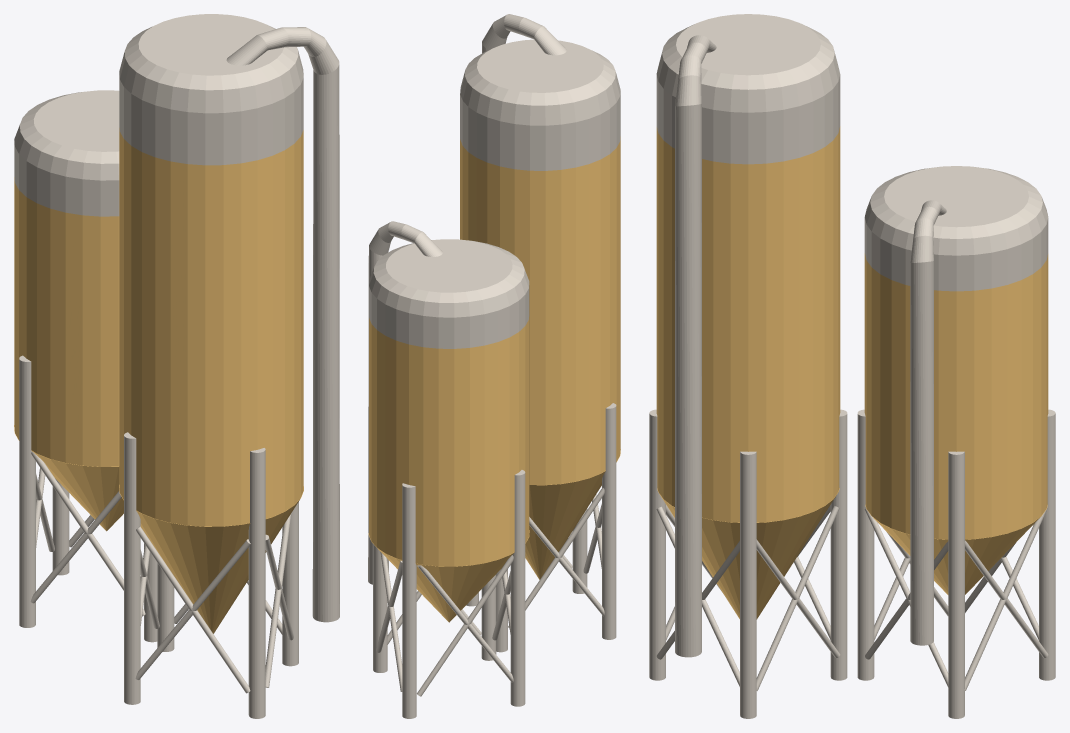
The model's file is silo's.fbx.
The picture shows the model from 3 angles, left to right: view 1: azimuth 30°, elevation 25°; view 2: azimuth 150°, elevation 25°; view 3: azimuth 270°, elevation 25°; orthographic projection. The views are drawn at different scales.
Parts seen in each view (by area): view 1: Cylinder.013, Cylinder, Cylinder.014, Cylinder.012, Cylinder.011, Cylinder.001, Cylinder.002, Cylinder.010, Cylinder.007, Cylinder.009, Cylinder.004, Cylinder.008 (+1 smaller); view 2: Cylinder.013, Cylinder, Cylinder.001, Cylinder.002, Cylinder.012, Cylinder.015, Cylinder.014, Cylinder.011, Cylinder.005, Cylinder.004, Cylinder.006, Cylinder.003 (+2 smaller); view 3: Cylinder.013, Cylinder, Cylinder.014, Cylinder.015, Cylinder.011, Cylinder.002, Cylinder.001, Cylinder.012, Cylinder.003, Cylinder.010, Cylinder.005, Cylinder.008 (+4 smaller).
Part boxes in pixels (bbox=[...]): Cylinder.013: bbox=[119, 14, 303, 633]; Cylinder: bbox=[14, 90, 123, 531]; Cylinder.014: bbox=[226, 27, 339, 622]; Cylinder.012: bbox=[124, 432, 298, 704]; Cylinder.011: bbox=[157, 448, 265, 718]; Cylinder.001: bbox=[19, 355, 35, 627]; Cylinder.002: bbox=[52, 478, 157, 642]; Cylinder.010: bbox=[136, 526, 282, 693]; Cylinder.007: bbox=[140, 513, 291, 687]; Cylinder.009: bbox=[135, 539, 250, 679]; Cylinder.004: bbox=[30, 491, 121, 603]; Cylinder.008: bbox=[140, 534, 293, 640]; Cylinder.013: bbox=[460, 39, 620, 579]; Cylinder: bbox=[368, 239, 529, 622]; Cylinder.001: bbox=[373, 470, 525, 706]; Cylinder.002: bbox=[402, 483, 496, 718]; Cylinder.012: bbox=[466, 403, 616, 639]; Cylinder.015: bbox=[368, 221, 442, 584]; Cylinder.014: bbox=[482, 14, 566, 55]; Cylinder.011: bbox=[496, 508, 587, 652]; Cylinder.005: bbox=[387, 555, 513, 696]; Cylinder.004: bbox=[380, 552, 510, 691]; Cylinder.006: bbox=[417, 565, 513, 682]; Cylinder.003: bbox=[376, 560, 510, 652]; Cylinder.013: bbox=[656, 14, 840, 619]; Cylinder: bbox=[864, 166, 1048, 594]; Cylinder.014: bbox=[675, 35, 716, 657]; Cylinder.015: bbox=[910, 200, 946, 645]; Cylinder.011: bbox=[649, 409, 847, 680]; Cylinder.002: bbox=[857, 409, 1055, 680]; Cylinder.001: bbox=[948, 451, 964, 718]; Cylinder.012: bbox=[740, 451, 756, 718]; Cylinder.003: bbox=[874, 508, 1047, 690]; Cylinder.010: bbox=[666, 505, 839, 690]; Cylinder.005: bbox=[864, 508, 1038, 687]; Cylinder.008: bbox=[656, 506, 830, 686].
Size of the model in its own units: 1657 by 5363 by 3005.
